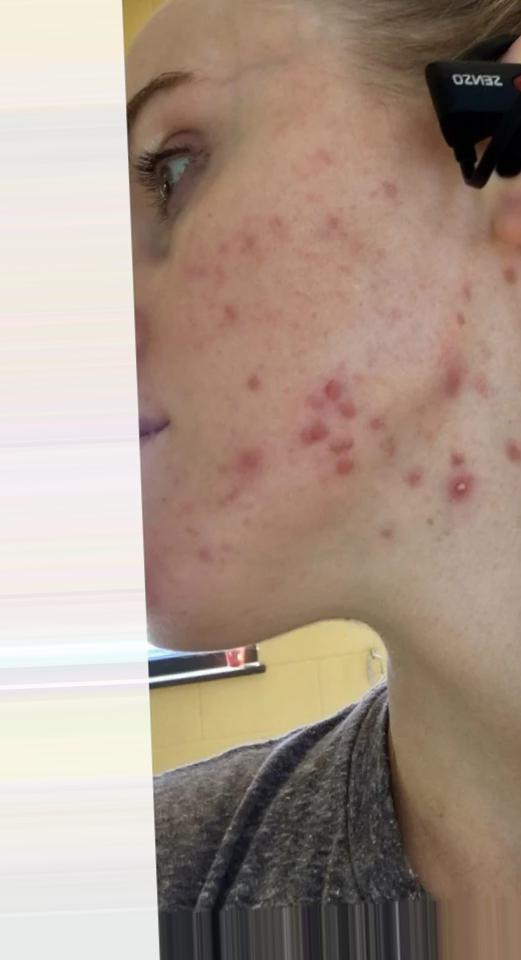Acne: (290, 364, 386, 495), (430, 270, 489, 408), (434, 444, 484, 514), (220, 212, 301, 253), (220, 444, 271, 488)
